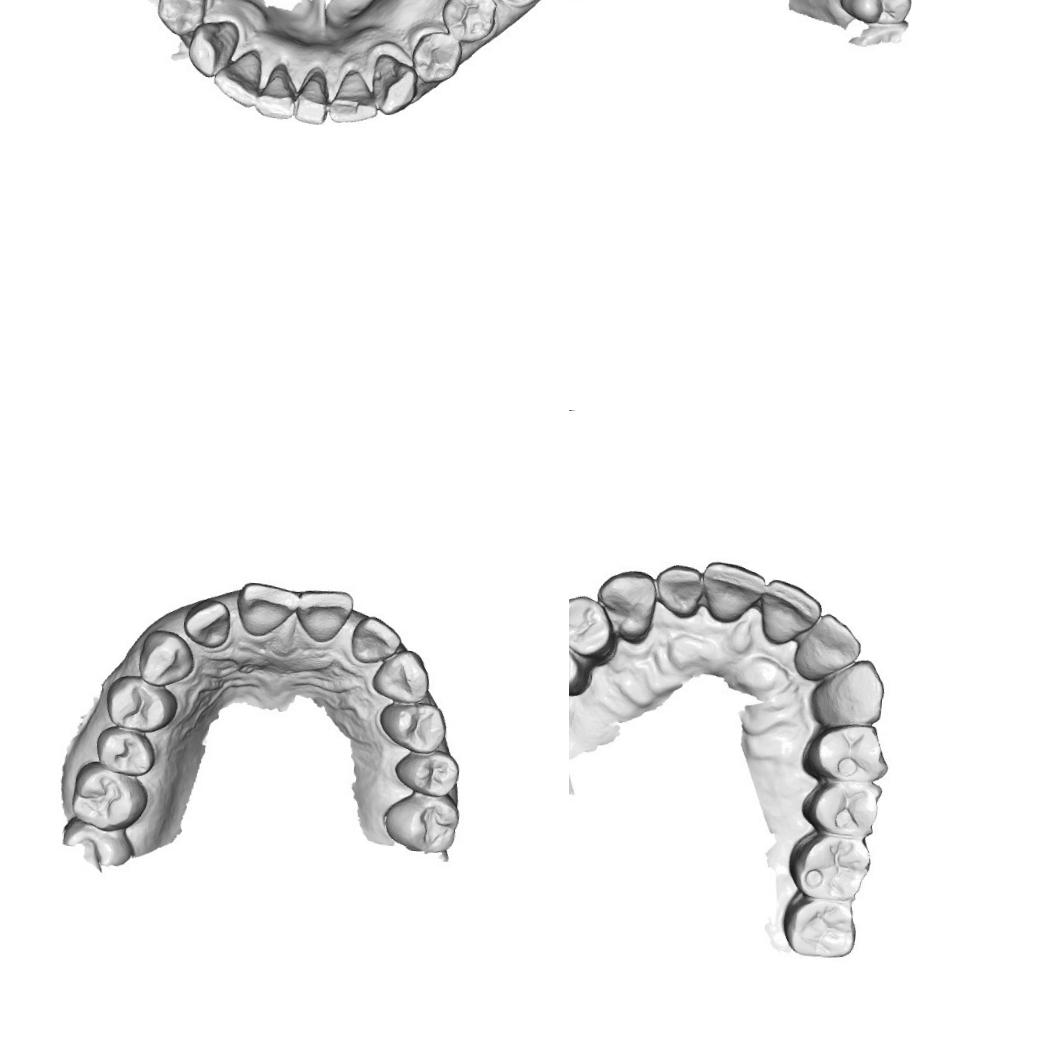canine: (804, 651, 890, 732), (596, 566, 659, 650), (130, 623, 198, 687), (364, 50, 422, 118), (186, 12, 239, 80), (373, 652, 428, 700)
incisor: (698, 558, 770, 634), (788, 614, 859, 686), (758, 578, 820, 646), (648, 560, 711, 623), (328, 66, 388, 128), (294, 588, 352, 648), (212, 48, 268, 109), (287, 62, 338, 128), (236, 583, 298, 636), (250, 61, 302, 122), (348, 612, 399, 662), (186, 599, 232, 647)
molar: (60, 757, 154, 836), (780, 826, 874, 901), (778, 882, 866, 962), (381, 788, 462, 857)
premolar: (796, 714, 893, 788), (796, 775, 888, 838), (569, 589, 623, 674), (391, 743, 462, 796), (94, 725, 158, 780), (108, 678, 175, 728), (414, 28, 464, 85), (386, 702, 443, 750), (569, 621, 599, 705), (440, 0, 502, 39), (838, 0, 914, 29), (154, 0, 209, 36)
